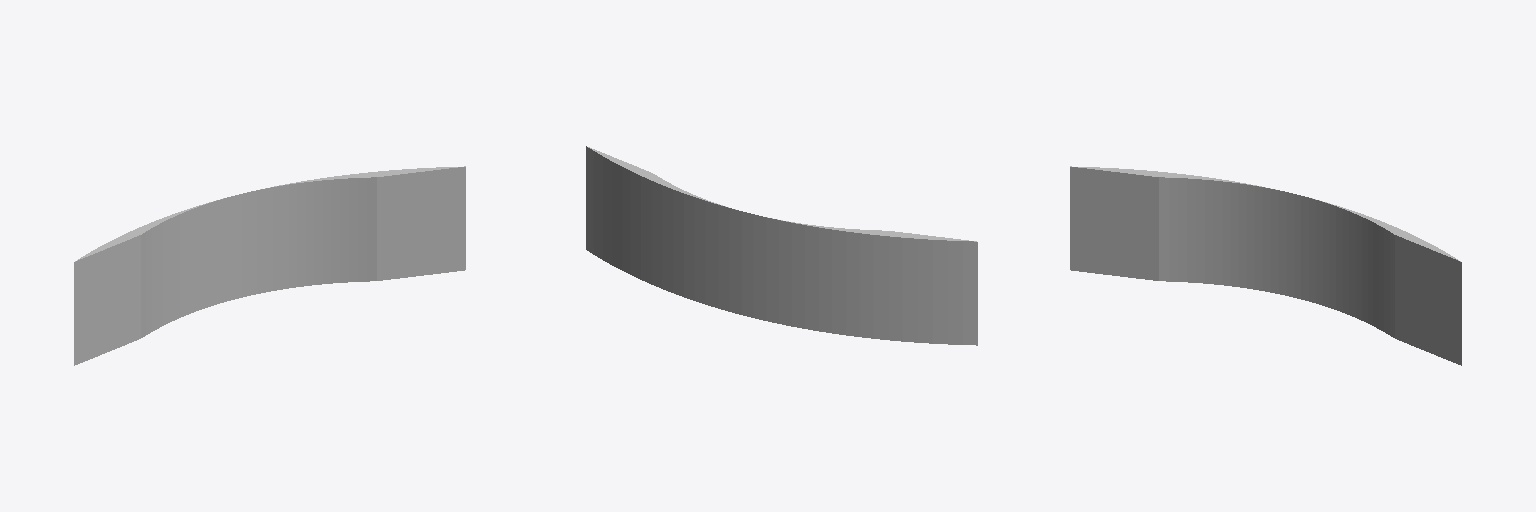
The model's file is battery_housing.obj.
3 renders of one model, left to right at view 1: azimuth 30°, elevation 25°; view 2: azimuth 150°, elevation 25°; view 3: azimuth 330°, elevation 25°, orthographic.
Parts seen in each view (by area): view 1: BatteryHousing.001; view 2: BatteryHousing.001; view 3: BatteryHousing.001.
Part boxes in pixels (x1,y1,x2,y2): BatteryHousing.001: (74,166,465,365); BatteryHousing.001: (586,146,977,345); BatteryHousing.001: (1070,166,1461,365).
Size of the model in its own units: 0.8474 by 0.2144 by 0.1053.